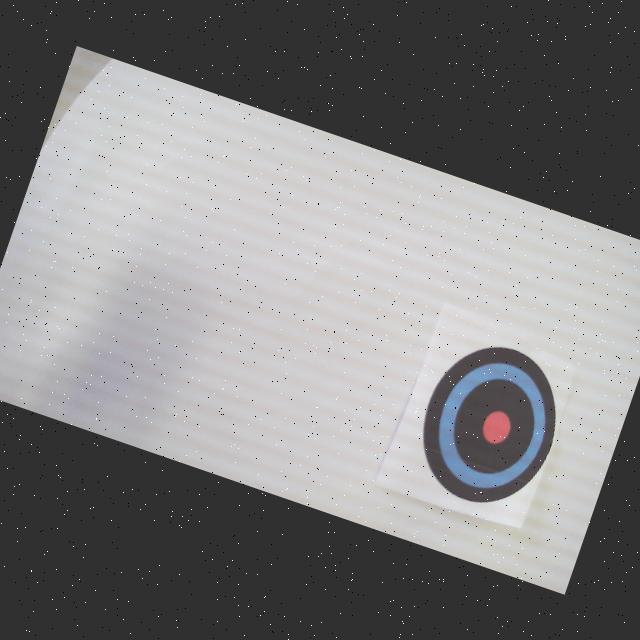COGNITIVE: (402, 328, 576, 522)
